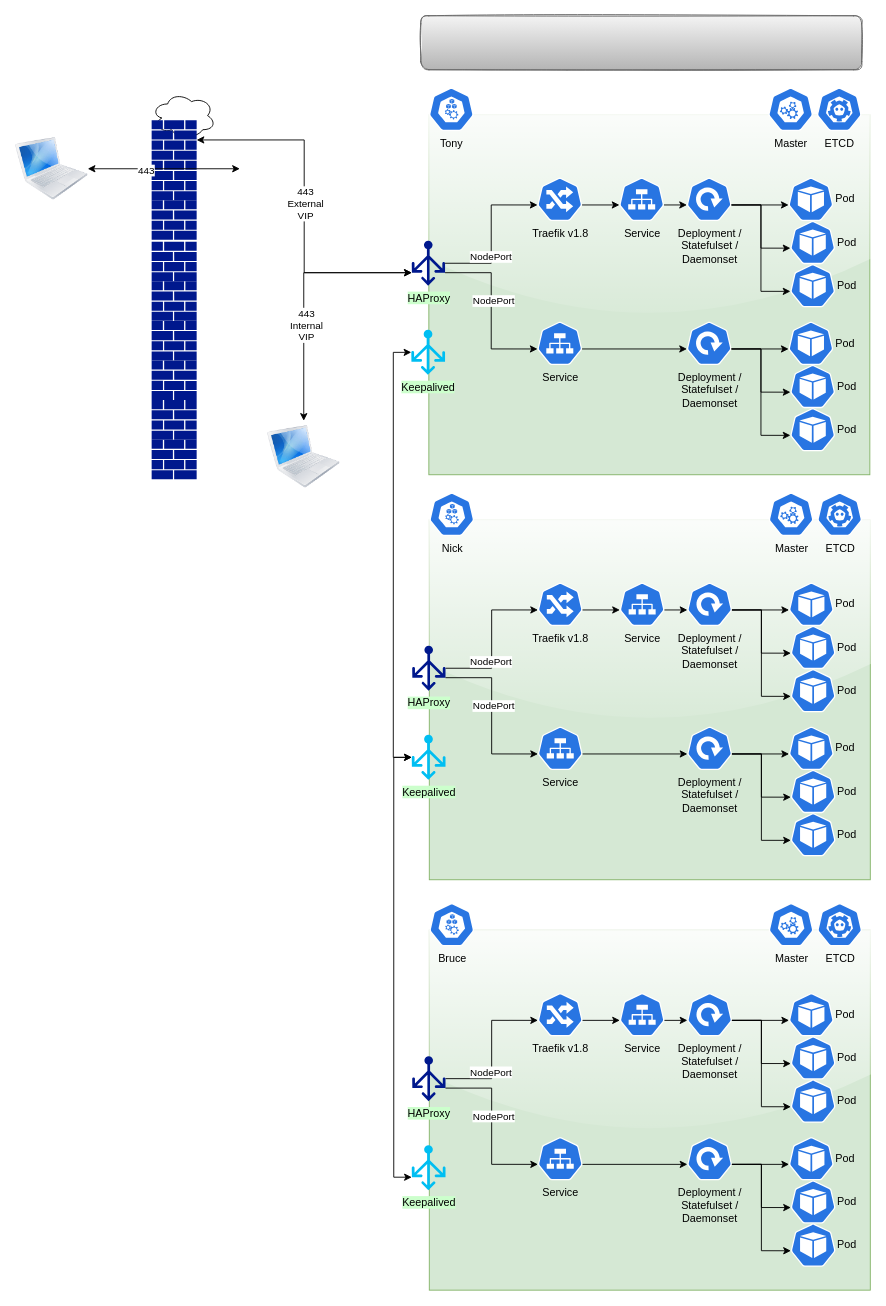
The diagram is 886 pixels wide and 1306 high, and some of its shapes have lost their labels. Here are the shapes that lost their labels. From the top down, the box of each, then its label:
(420, 15, 862, 70): Avengers LAB
(15, 132, 87, 204): Internet User
(267, 420, 339, 492): Internal User
